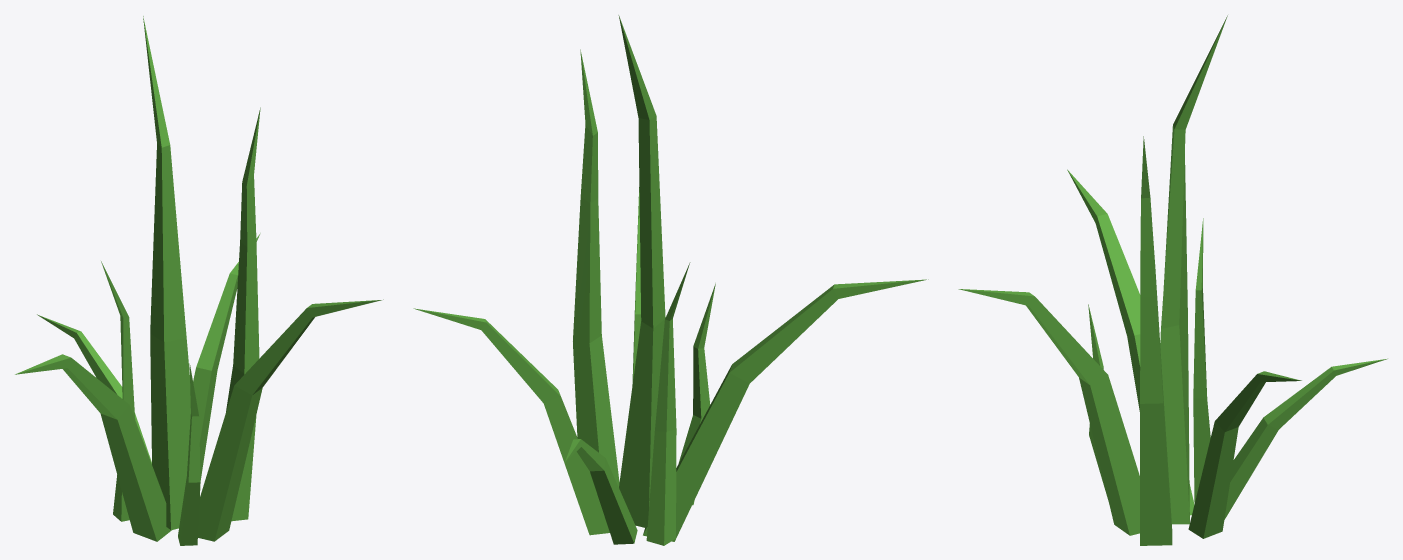
The model's file is grass.fbx.
3 renders of one model, left to right at view 1: azimuth 30°, elevation 25°; view 2: azimuth 150°, elevation 25°; view 3: azimuth 270°, elevation 25°, orthographic. The views are drawn at different scales.
Visible parts, largest first — view 1: Grass1; view 2: Grass1; view 3: Grass1.
Part boxes in pixels (x1,y1,x2,y2): Grass1: (15,16,383,545); Grass1: (413,15,928,545); Grass1: (958,15,1387,545).
Bounding box in the file's own units: 8.06 × 10.58 × 8.13.
